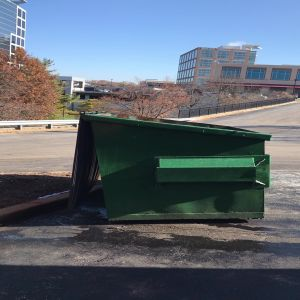Dumpster: (67, 110, 274, 226)
